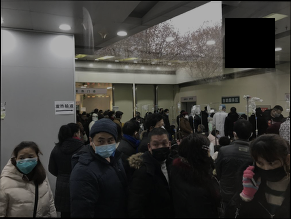with_mask: (253, 158, 287, 183), (15, 152, 39, 176), (93, 135, 117, 159), (150, 137, 170, 163), (273, 110, 283, 119), (216, 132, 221, 139), (185, 113, 189, 121), (112, 113, 117, 119), (166, 111, 170, 116)
without_mask: (81, 114, 87, 121)
